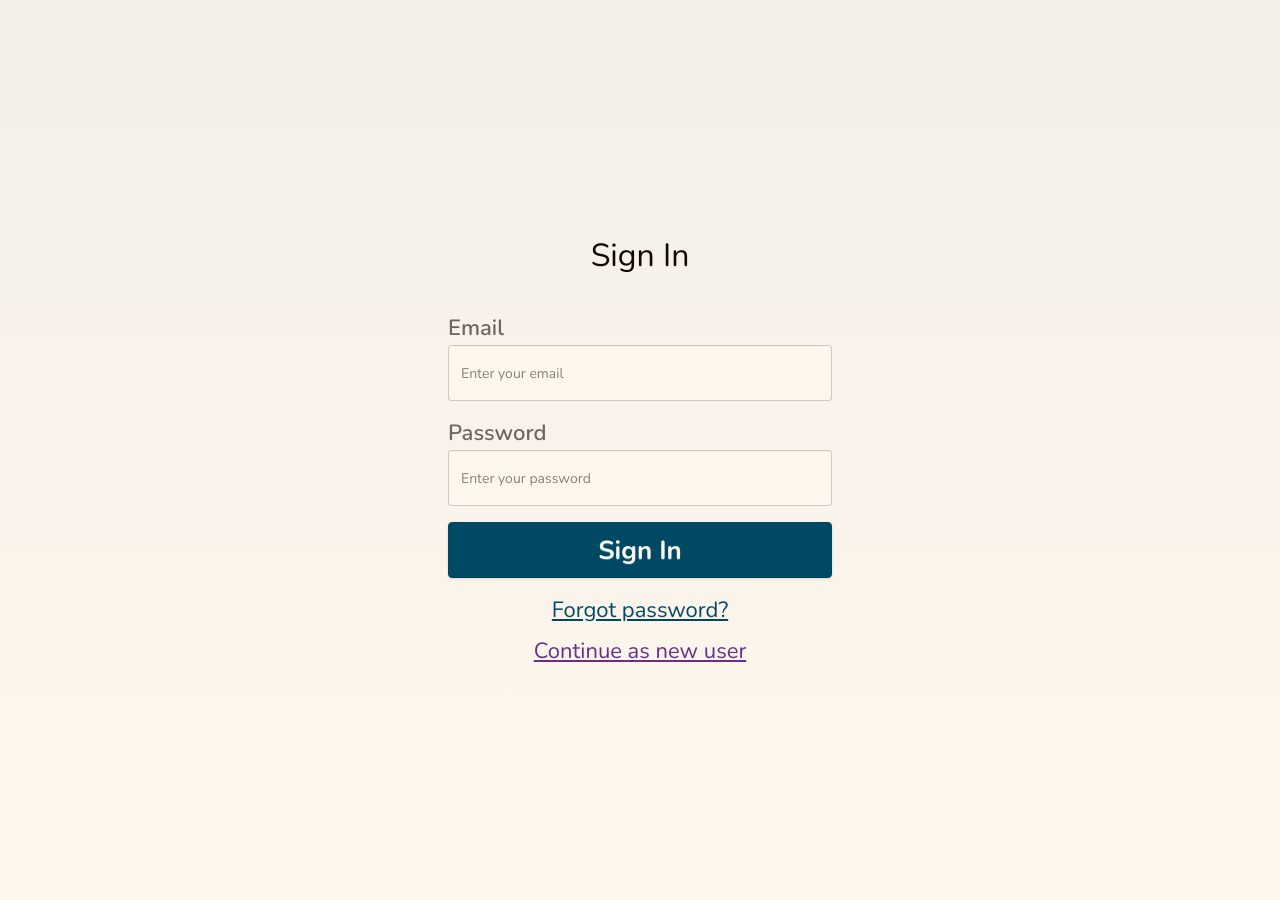
Test: LoginForm › shows error for user not found
The image size is (1280, 900).
Type "noone@example.com" into the field labelled "Email" at (640, 373), box x1=448 y1=345 x2=832 y2=401
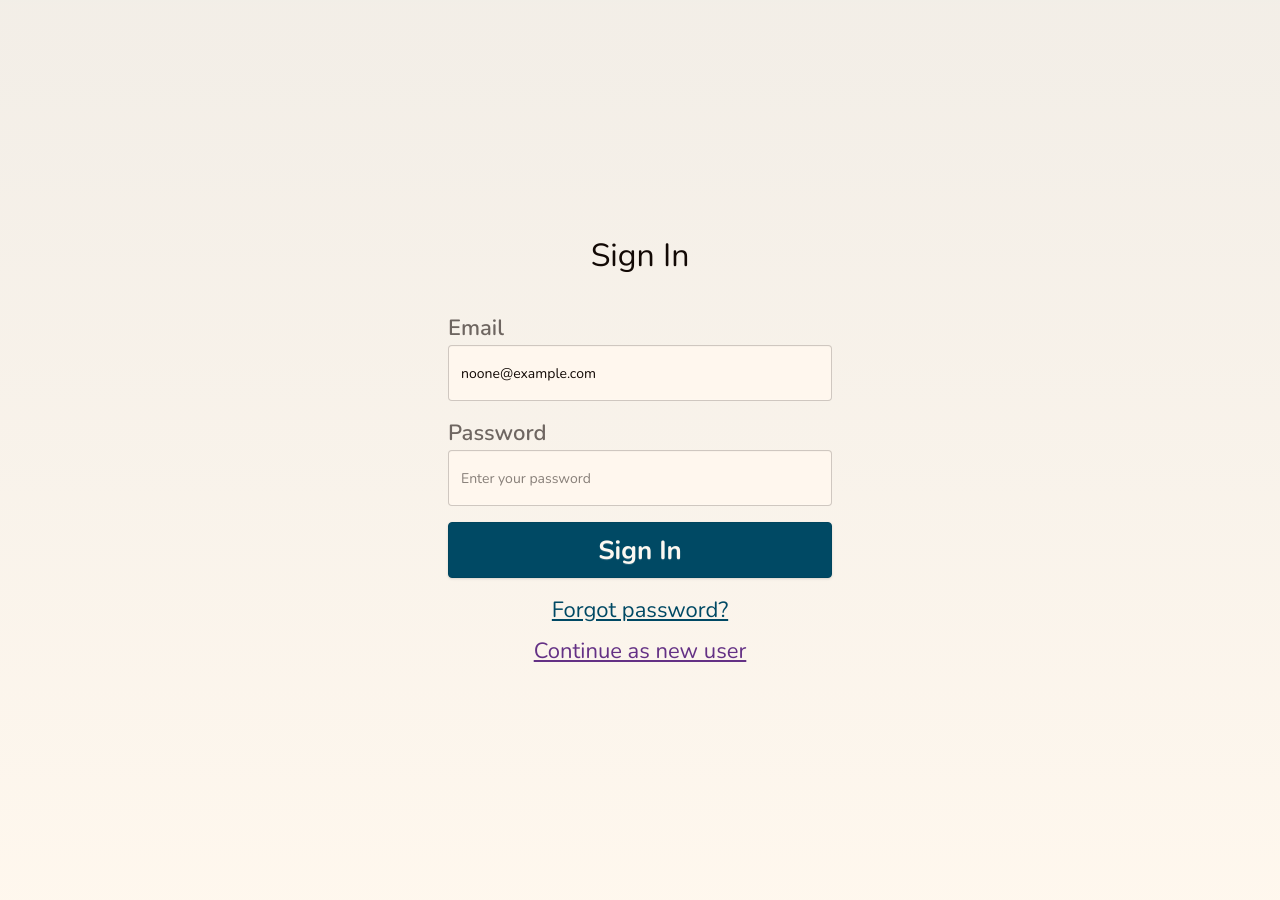
Type "pw" into the password field labelled "Password" at (640, 478), box x1=448 y1=450 x2=832 y2=506
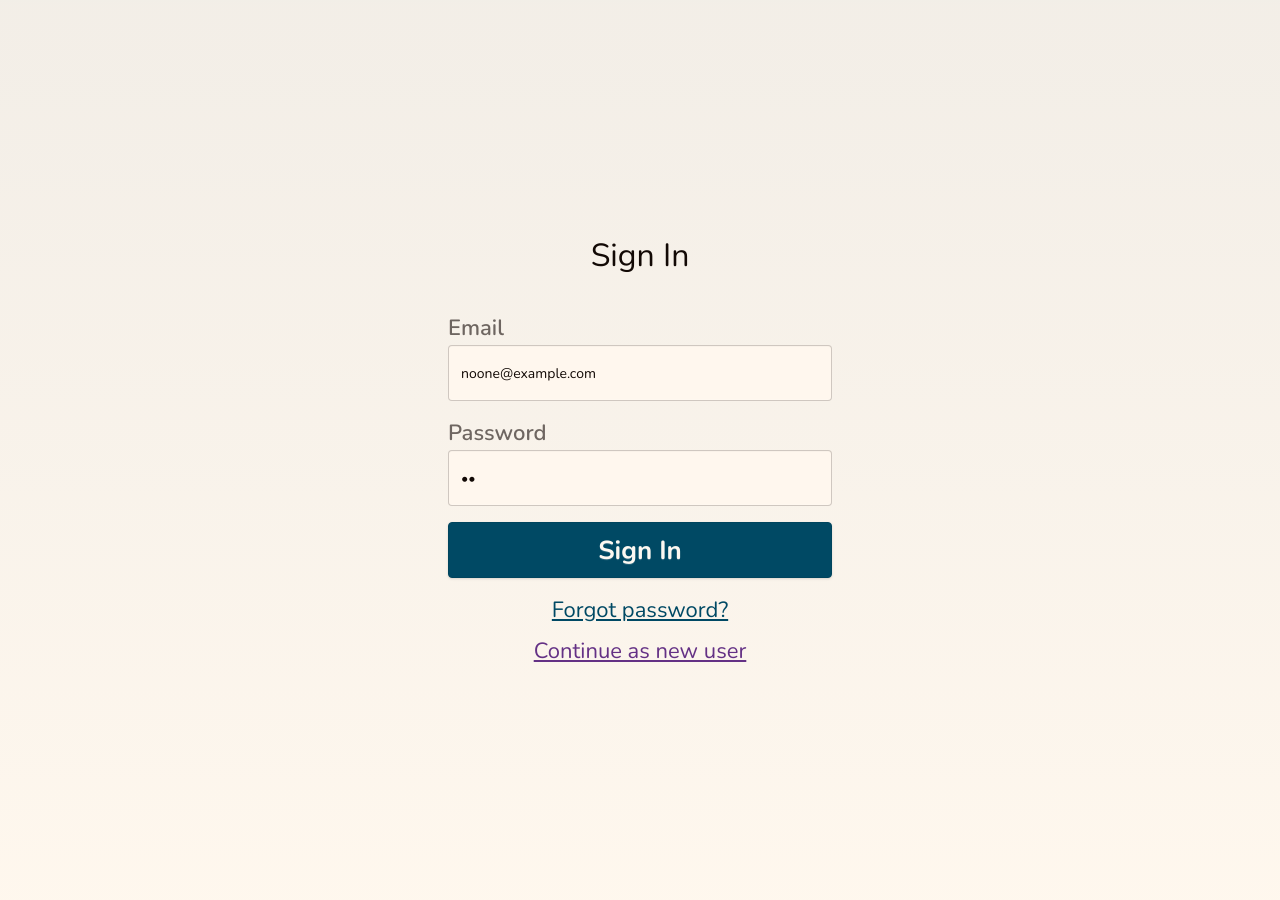
Click the button "Sign In" at (640, 550), box x1=448 y1=522 x2=832 y2=578
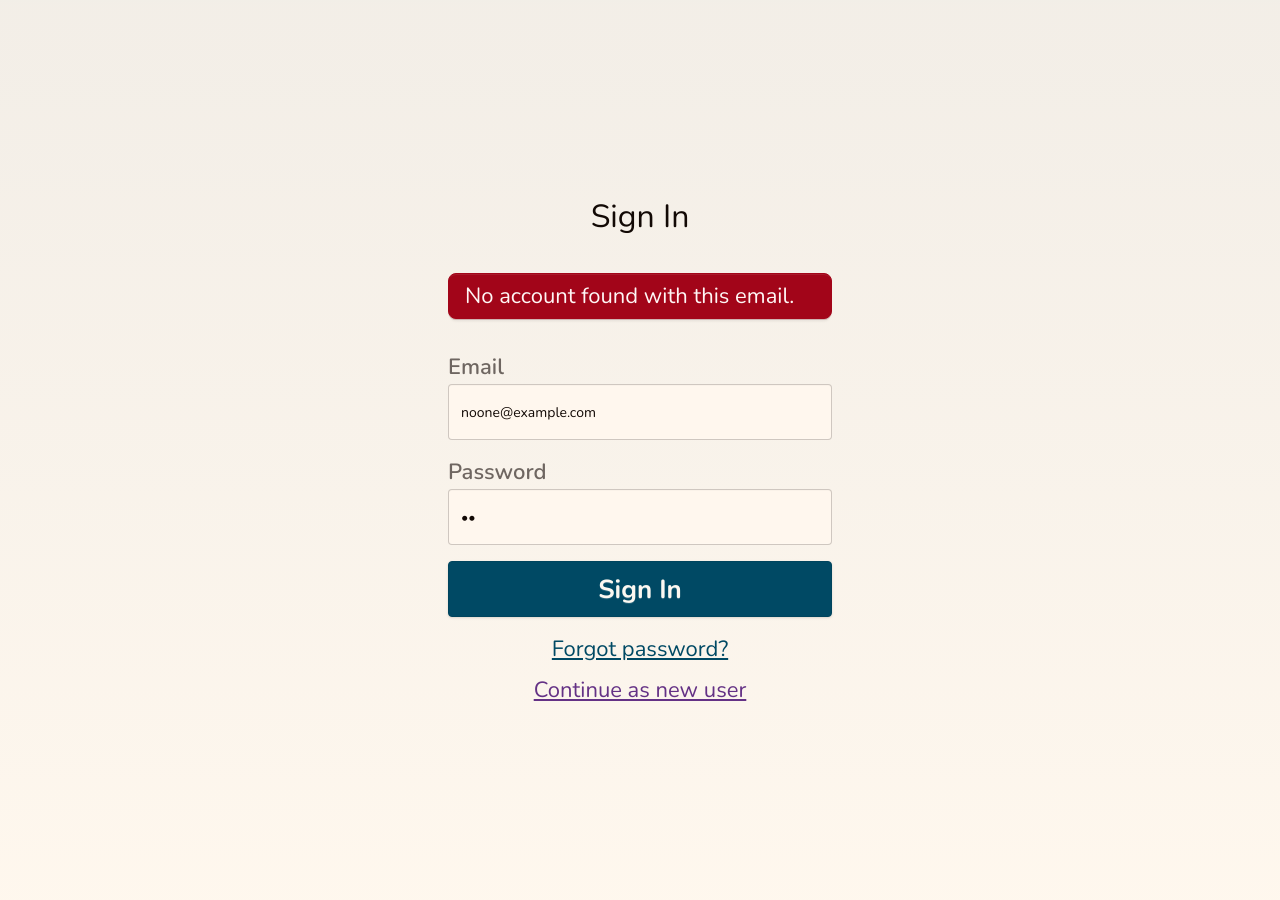
expect the message shows "No account found": met, box x1=465 y1=281 x2=794 y2=311
